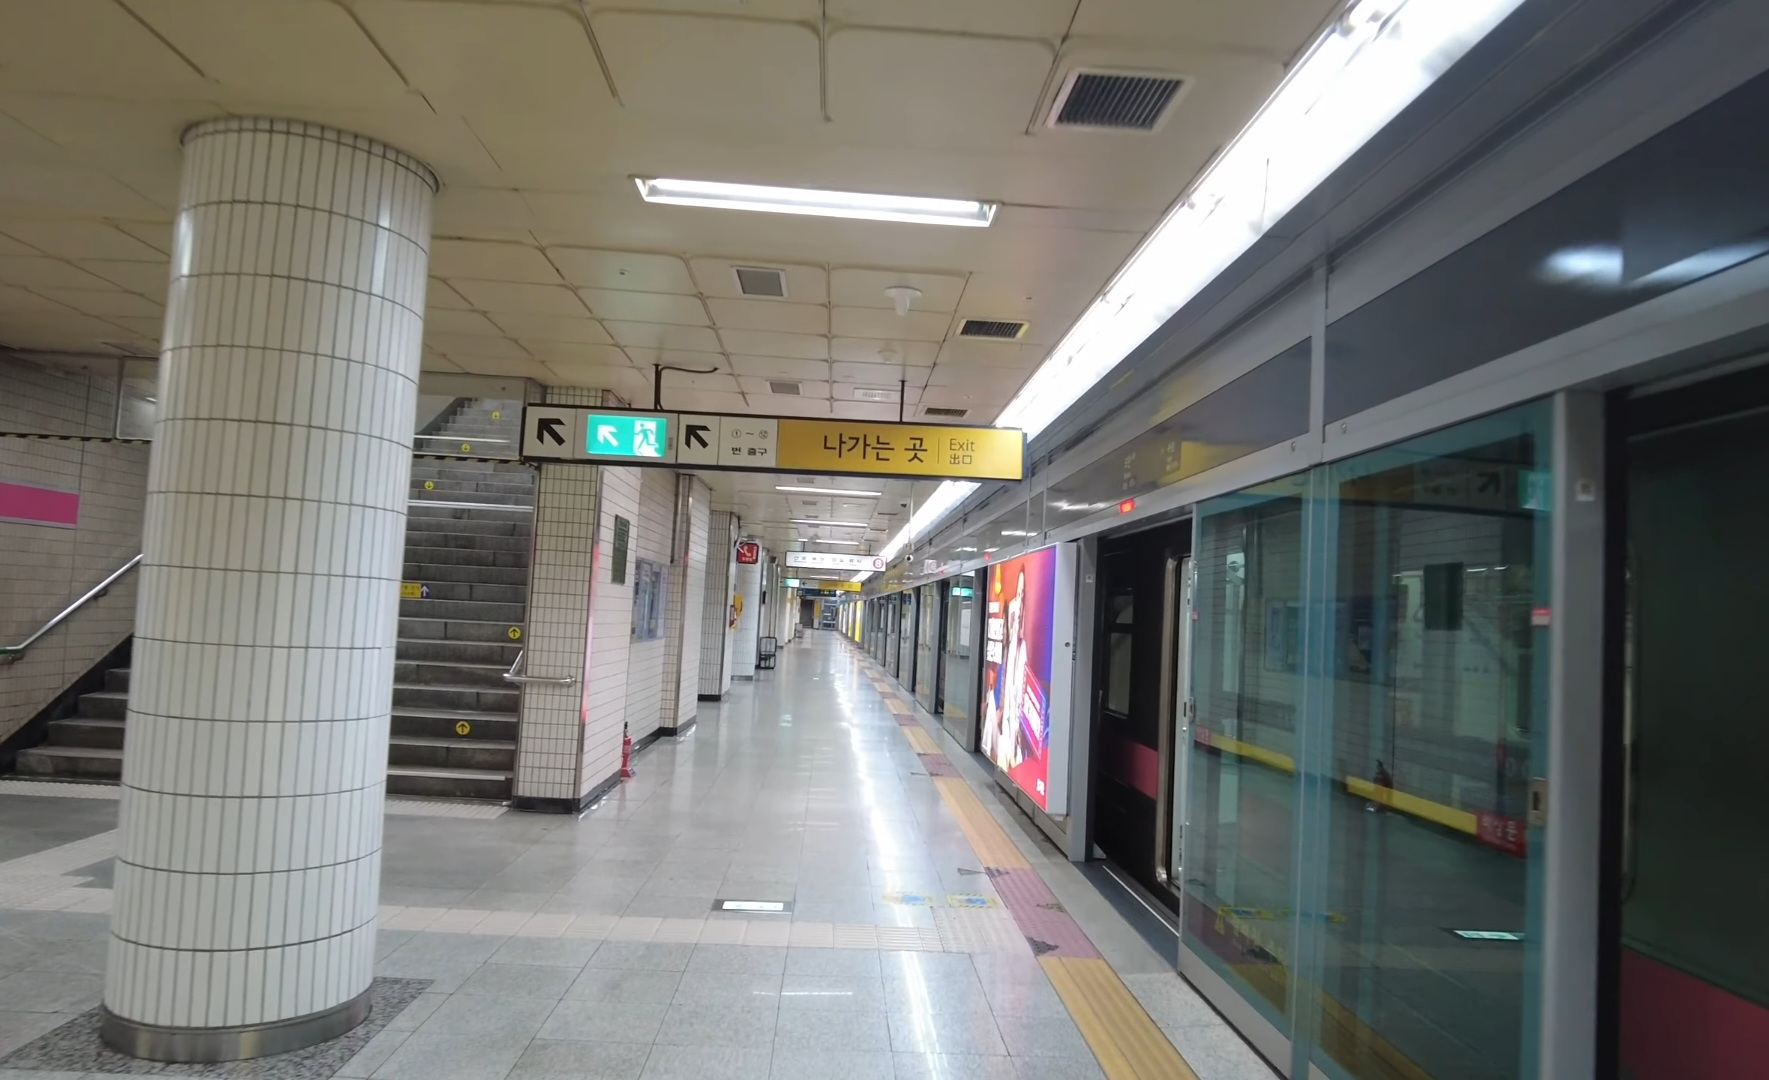signBoard: (514, 397, 1034, 485)
